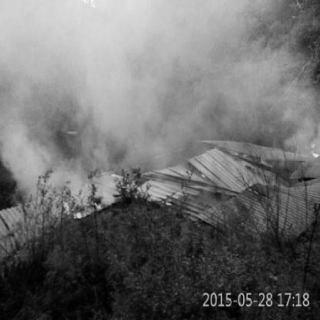Smoke: (84, 26, 156, 136)
